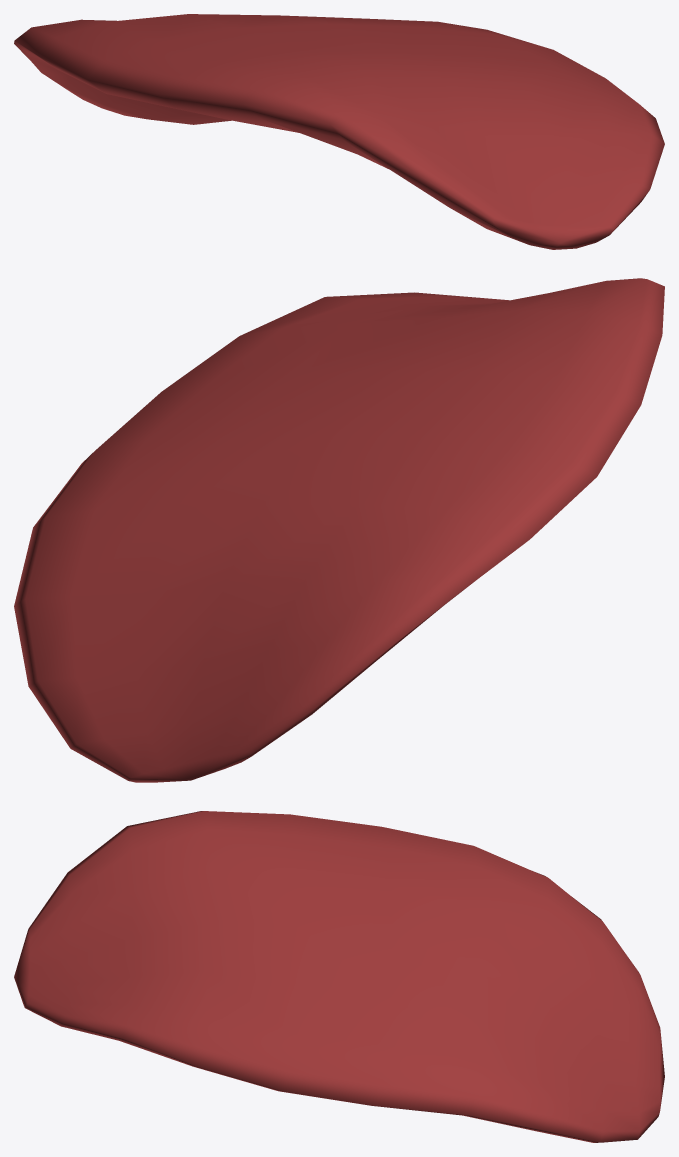
Rendered from subcutaneous-acromial-bursa-l.glb.
3 views of the same model, one above another, from view 1: azimuth 30°, elevation 25°; view 2: azimuth 150°, elevation 25°; view 3: azimuth 270°, elevation 25° (orthographic). The views are drawn at different scales.
Parts seen in each view (by area): view 1: Subcutaneous acromial bursa.l; view 2: Subcutaneous acromial bursa.l; view 3: Subcutaneous acromial bursa.l.
Part boxes in pixels (x1,y1,x2,y2): Subcutaneous acromial bursa.l: (14,14,664,249); Subcutaneous acromial bursa.l: (14,278,664,782); Subcutaneous acromial bursa.l: (14,811,664,1142).
Size of the model in its own units: 0.0314 by 0.0172 by 0.0448.
